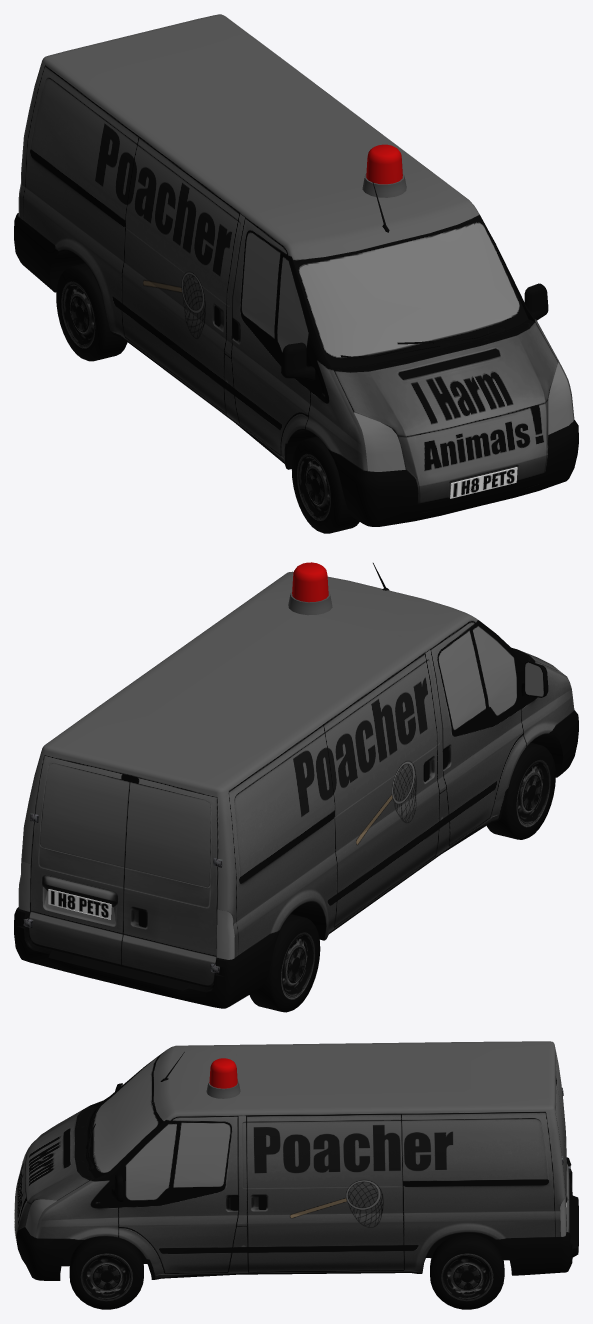
Rendered from PoacherVan.fbx.
The picture shows the model from 3 angles, top to bottom: view 1: azimuth 30°, elevation 25°; view 2: azimuth 150°, elevation 25°; view 3: azimuth 270°, elevation 25°; orthographic projection. The views are drawn at different scales.
Visible parts, largest first — view 1: pCylinder4; view 2: pCylinder4; view 3: pCylinder4.
Part boxes in pixels (x1,y1,x2,y2): pCylinder4: [14, 14, 578, 533]; pCylinder4: [14, 562, 578, 1012]; pCylinder4: [14, 1041, 578, 1309].
Size of the model in its own units: 13.66 by 14.32 by 32.99.
Materials: 1 (1 with a texture image).
